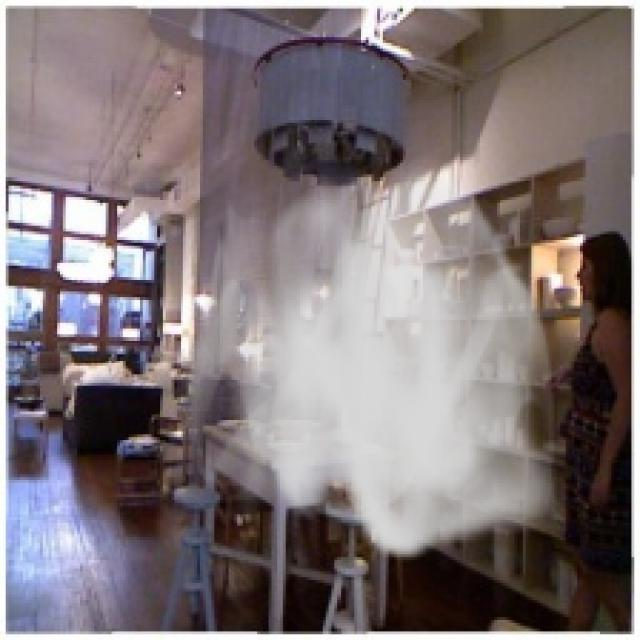smoke: (163, 154, 568, 563)
